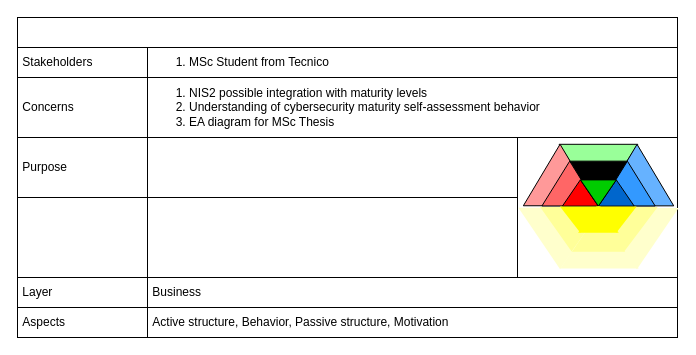
The diagram is 696 pixels wide and 355 high, and some of its shapes have lost their labels. Each missing label, with the centre of its shape:
Abstraction Level: pixel 82 237
Coherence: pixel 332 237
Deciding: pixel 332 167
Maturity Viewpoint: pixel 347 32
